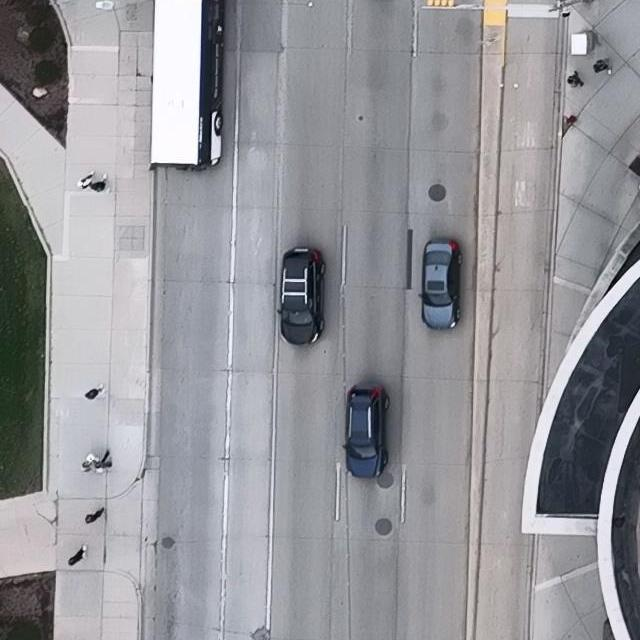car: (147, 0, 225, 172), (277, 244, 325, 345), (342, 383, 390, 480), (418, 238, 463, 331)
